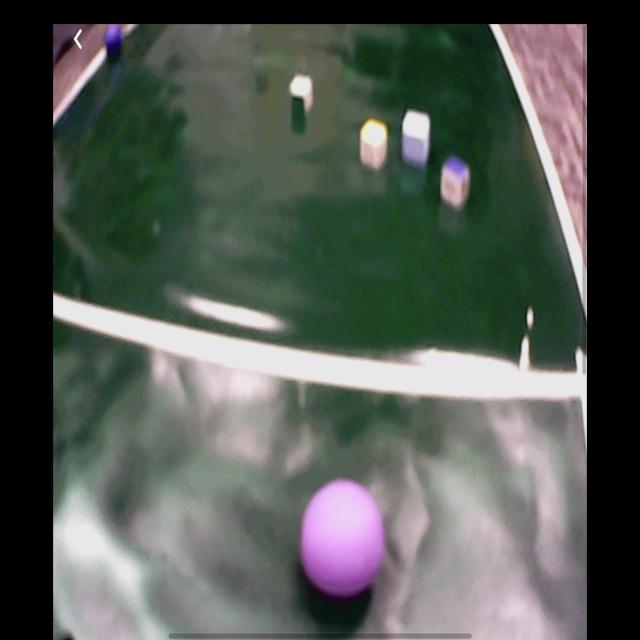ball: (299, 479, 386, 597), (104, 27, 122, 51)
